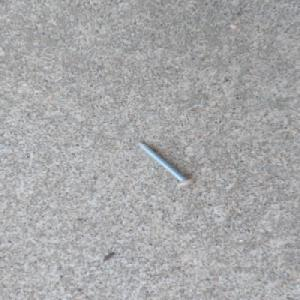Screw: (132, 140, 197, 188)
